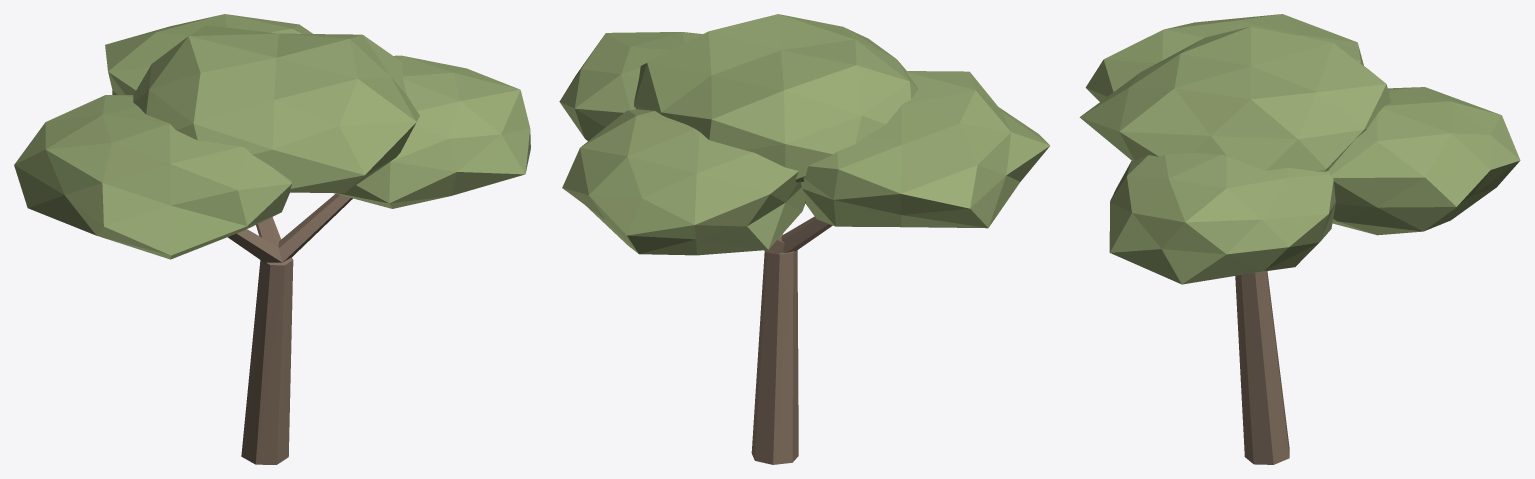
File: tree_algarrobo.glb
The picture shows the model from 3 angles, left to right: view 1: azimuth 30°, elevation 25°; view 2: azimuth 150°, elevation 25°; view 3: azimuth 270°, elevation 25°; orthographic projection. The views are drawn at different scales.
Parts seen in each view (by area): view 1: body; view 2: body; view 3: body.
Boxes of the visible parts, x1,y1,x2,y2 form: body: (14, 14, 530, 464); body: (559, 14, 1050, 464); body: (1079, 14, 1520, 464).
Size of the model in its own units: 5.5 by 4.78 by 4.83.
